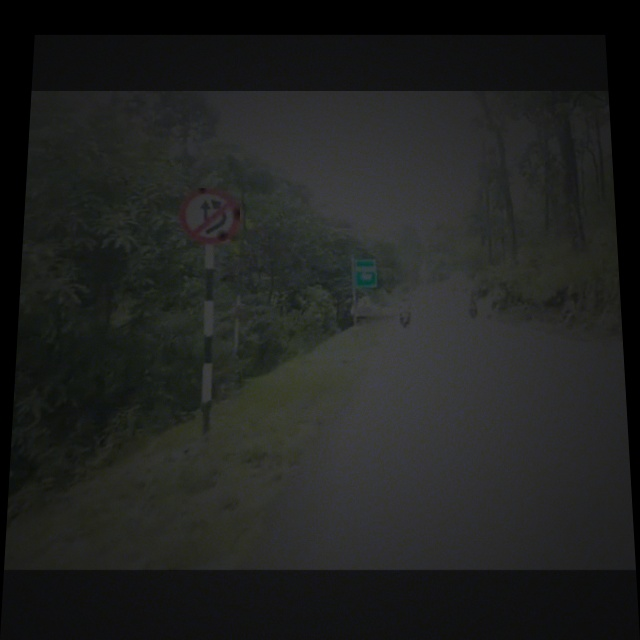Overtaking_Prohibited: (178, 188, 240, 243)
